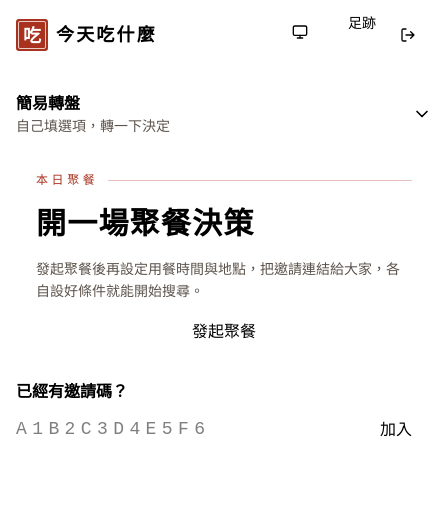
Test case: HomePage 錯誤就地顯示（QA ISSUE-003） › DB 的舊用詞建房錯誤換成畫面用詞
Click the button "發起聚餐": (224, 331) [36, 319, 412, 343]
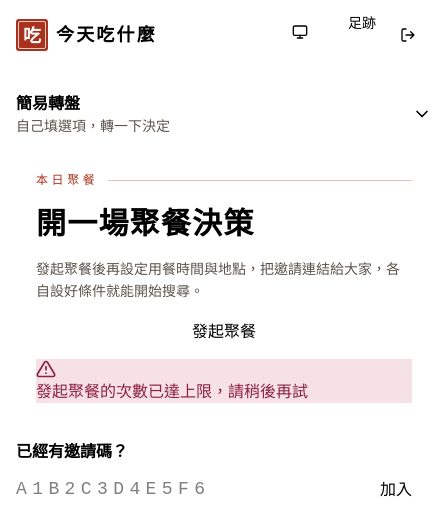
expect the message reads "發起聚餐的次數已達上限，請稍後再試": met, box [36, 380, 308, 402]
